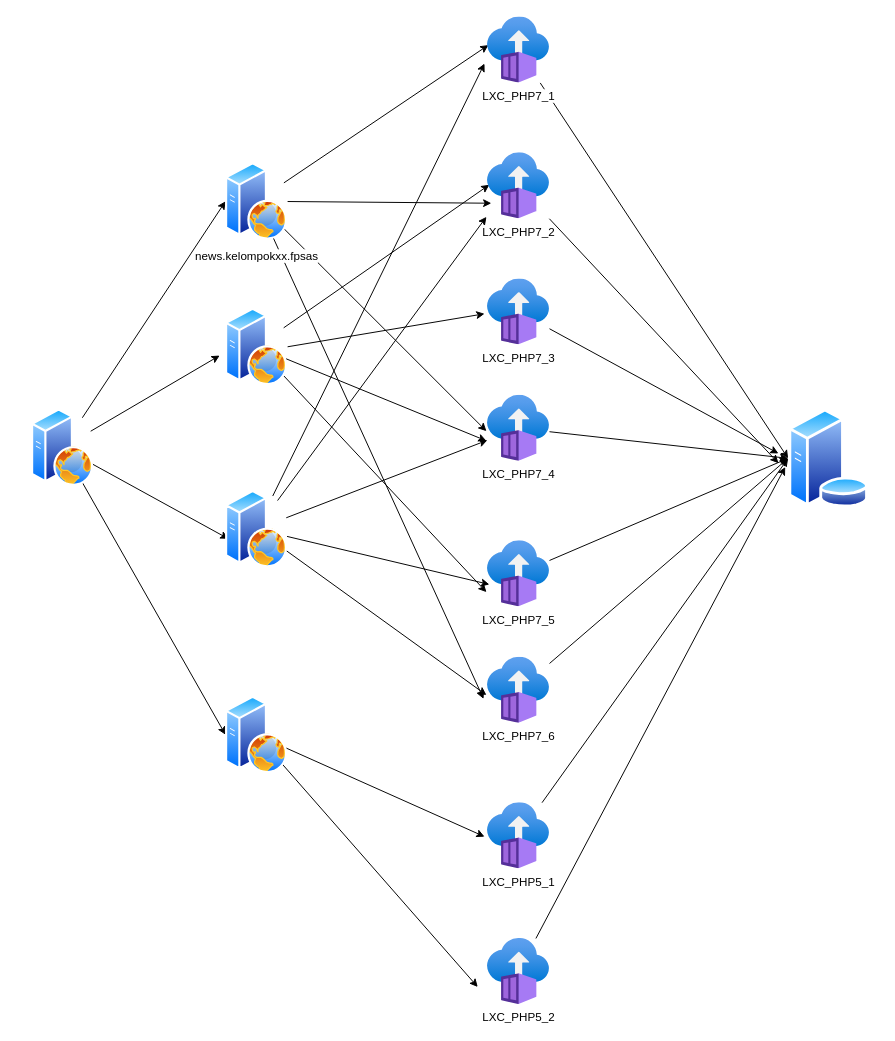
The diagram is 895 pixels wide and 1041 high, and some of its shapes have lost their labels. The shapes that lost their labels are listed below. From the top down, each one's box as (x1, y1, x2, y2) in pixels, then its label:
(225, 307, 287, 385): kelompokxx.fpsas/
(31, 408, 93, 486): kelompokxx.fpsas
(788, 408, 869, 507): LXC_DB_SERVER
(225, 490, 287, 567): kelompokxx.fpsas/product
(225, 695, 287, 773): kelompokxx.fpsas/app
